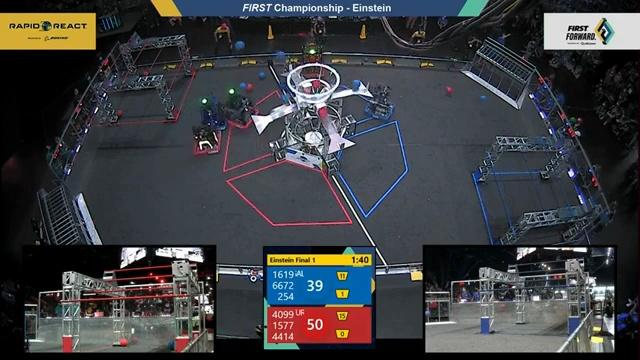robot: (220, 90, 262, 134), (362, 79, 399, 124), (193, 92, 229, 135), (191, 125, 223, 162), (294, 41, 325, 78)
